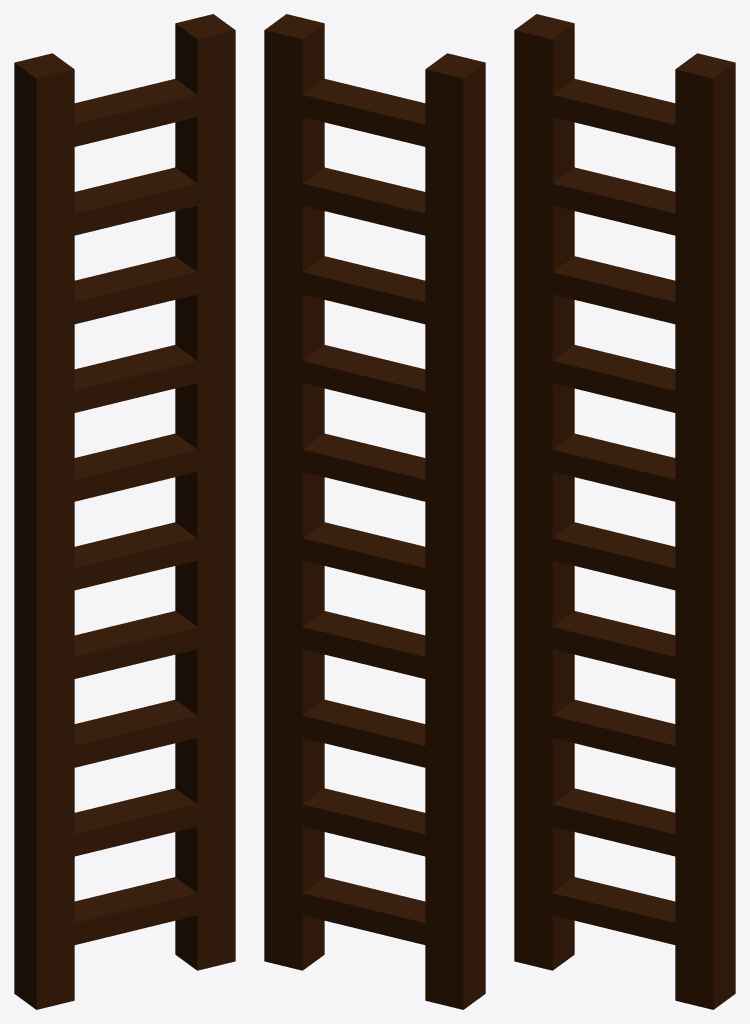
Rendered from LADderOBJ.obj.
3 renders of one model, left to right at view 1: azimuth 30°, elevation 25°; view 2: azimuth 150°, elevation 25°; view 3: azimuth 330°, elevation 25°, orthographic.
Visible parts, largest first — view 1: pCube2_Mesh; view 2: pCube2_Mesh; view 3: pCube2_Mesh.
Part boxes in pixels (left/top/right/bottom): pCube2_Mesh: left=14, top=14, right=235, bottom=1009; pCube2_Mesh: left=264, top=14, right=485, bottom=1009; pCube2_Mesh: left=514, top=14, right=735, bottom=1009.
Size of the model in its own units: 0.0309 by 0.1383 by 0.00594.
